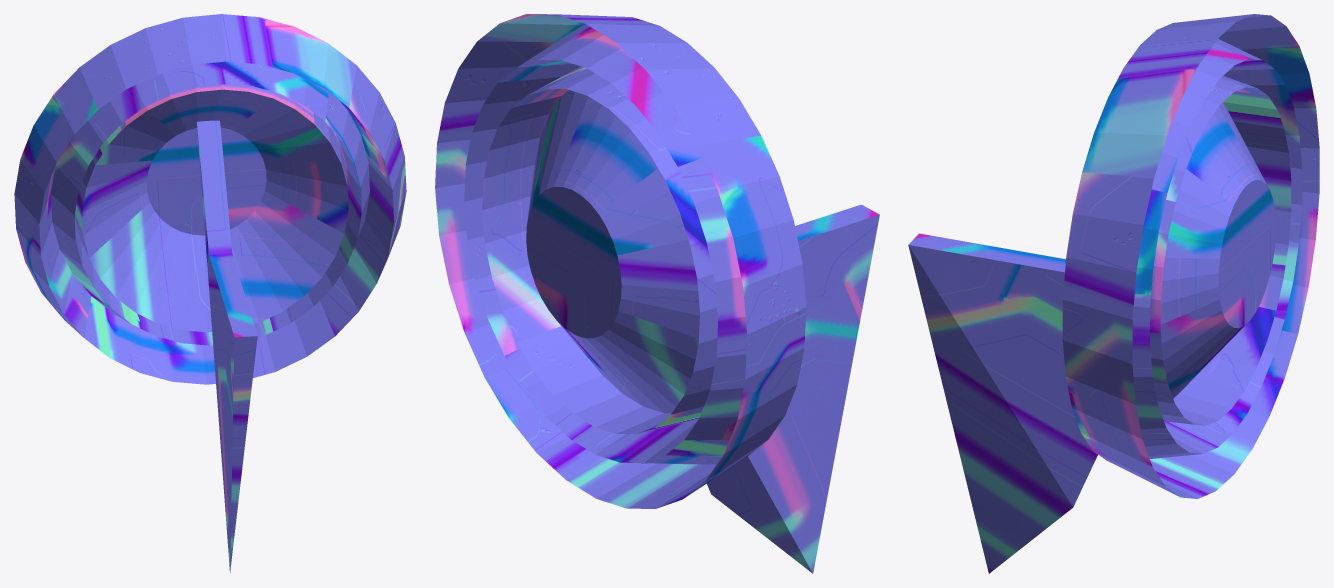
File: radar17.obj
The picture shows the model from 3 angles, left to right: view 1: azimuth 30°, elevation 25°; view 2: azimuth 150°, elevation 25°; view 3: azimuth 270°, elevation 25°; orthographic projection. The views are drawn at different scales.
Parts seen in each view (by area): view 1: radar; view 2: radar; view 3: radar.
Part boxes in pixels (x1,y1,x2,y2): radar: (14, 14, 406, 572); radar: (435, 14, 879, 573); radar: (908, 14, 1319, 573).
Size of the model in its own units: 0.9431 by 1.3 by 0.8281.
